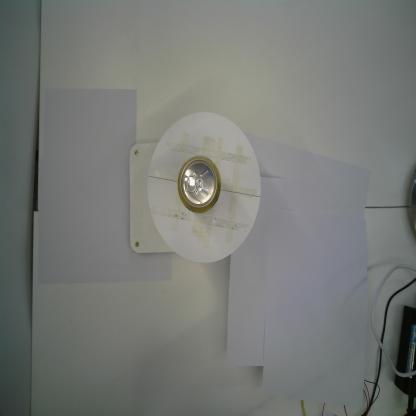Alcohol: (177, 154, 222, 216)
